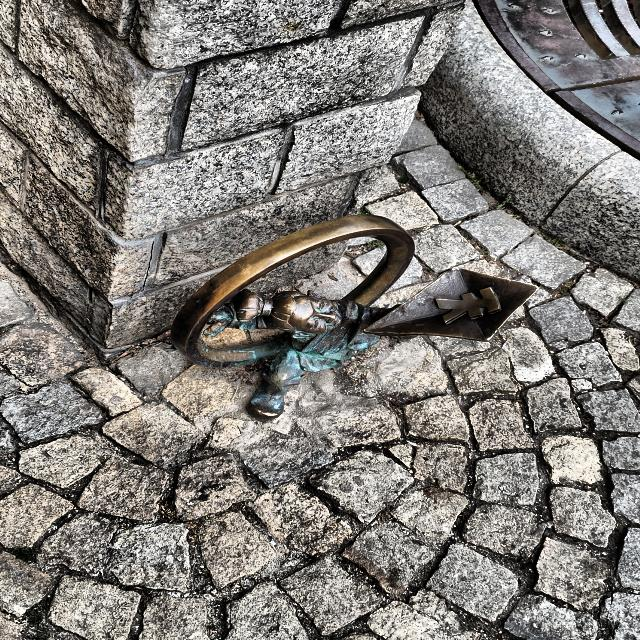TianTian: (172, 215, 535, 419)
